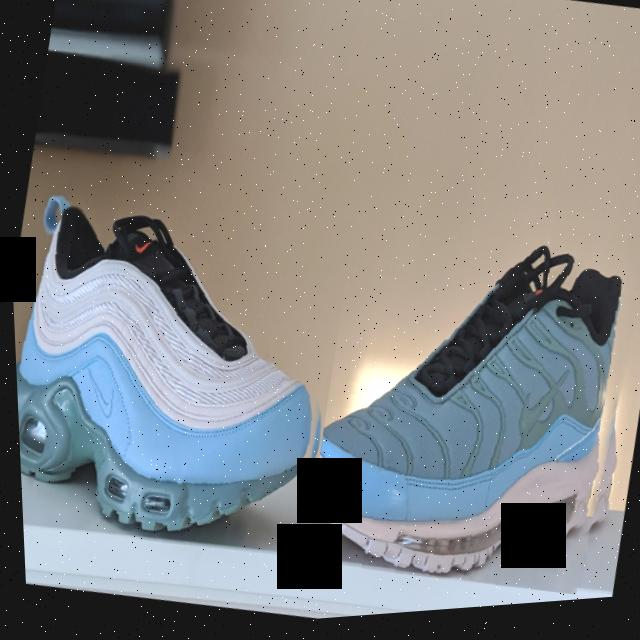shoe: (286, 184, 640, 624), (6, 155, 368, 580)
